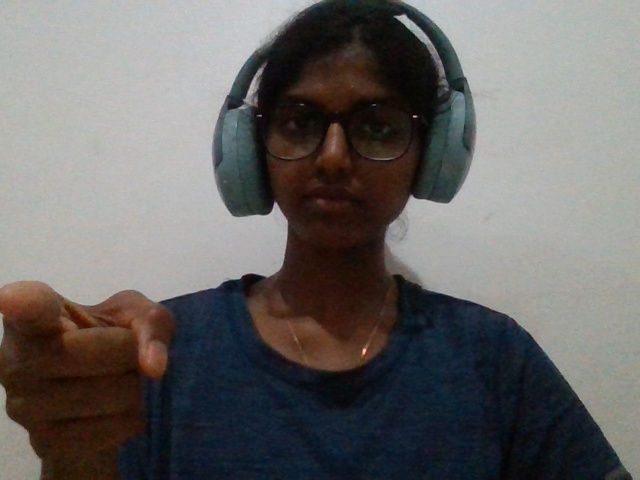You: (3, 246, 192, 480)
